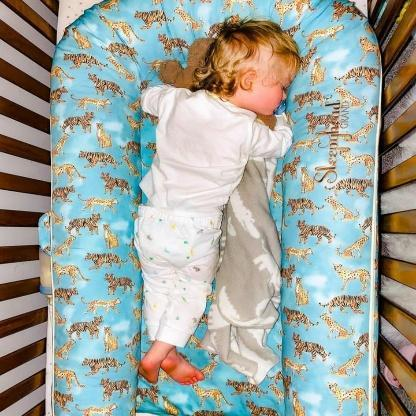baby: (133, 20, 301, 386)
